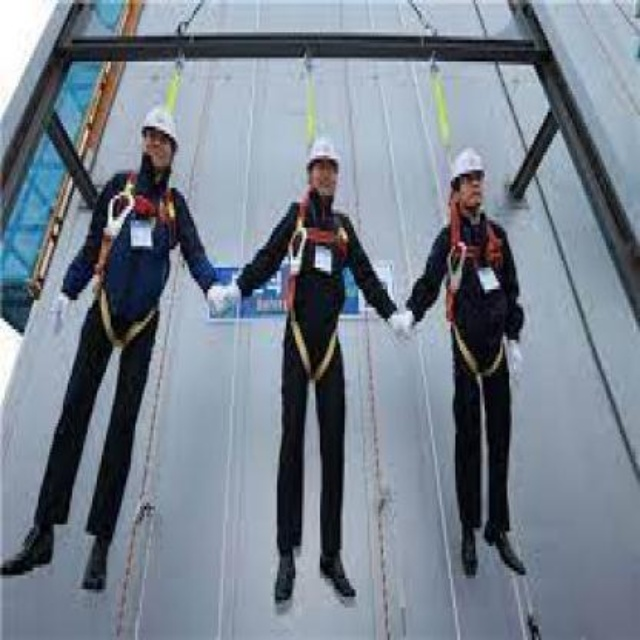Arnes_seguridad: (92, 165, 174, 352), (285, 192, 346, 387), (444, 217, 512, 385)
